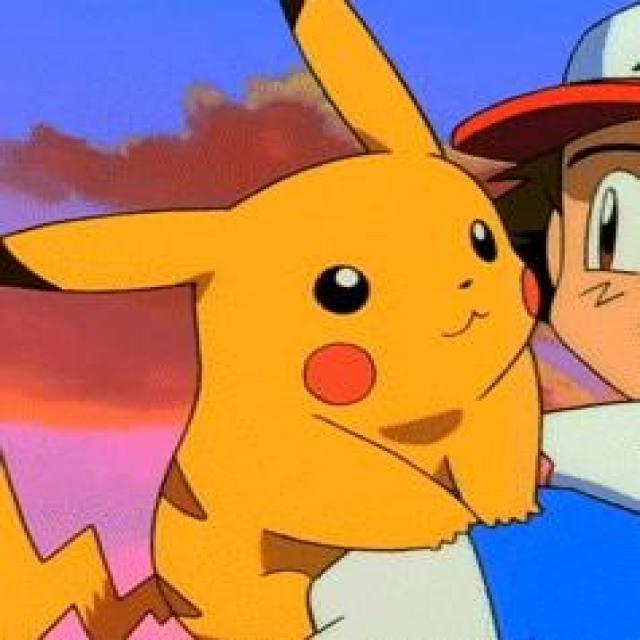pikachu: (0, 0, 541, 640)
